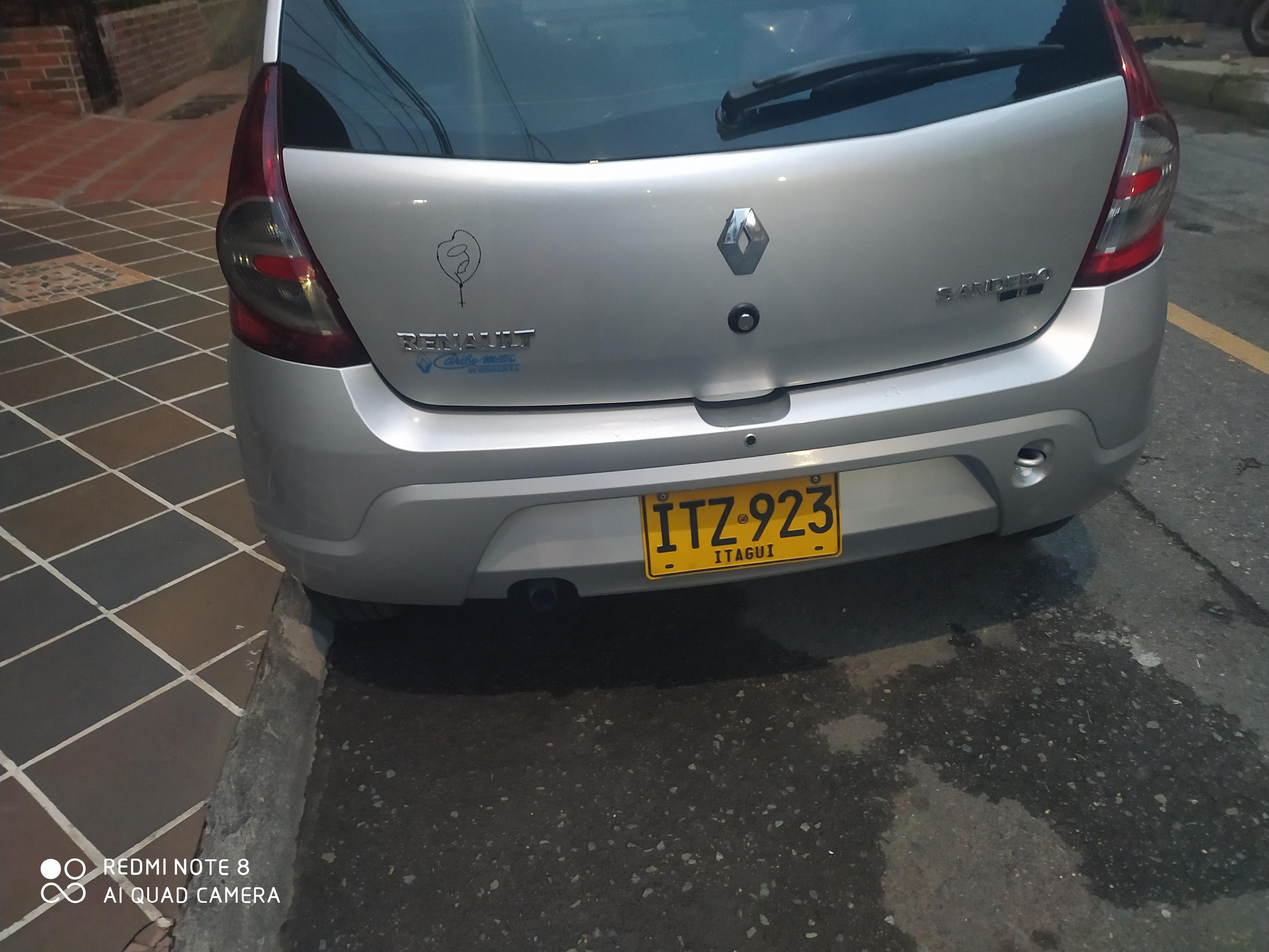placa: (620, 467, 855, 583)
